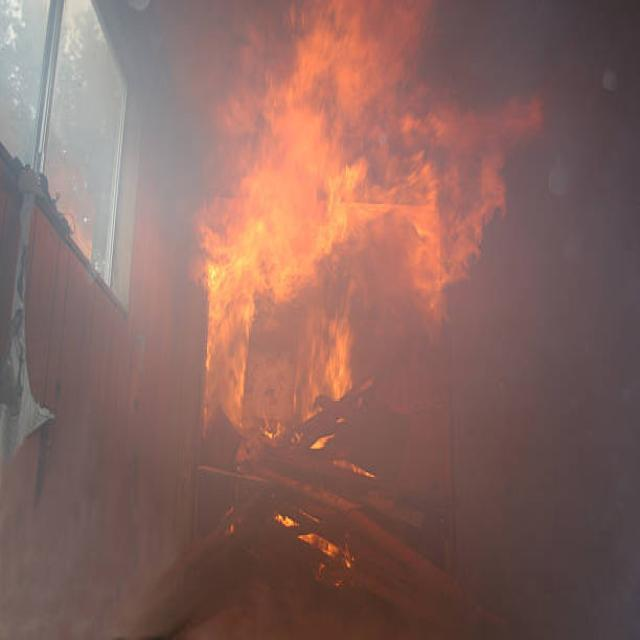Fire: (177, 0, 530, 438)
Smoke: (442, 15, 640, 468), (111, 0, 277, 432)
